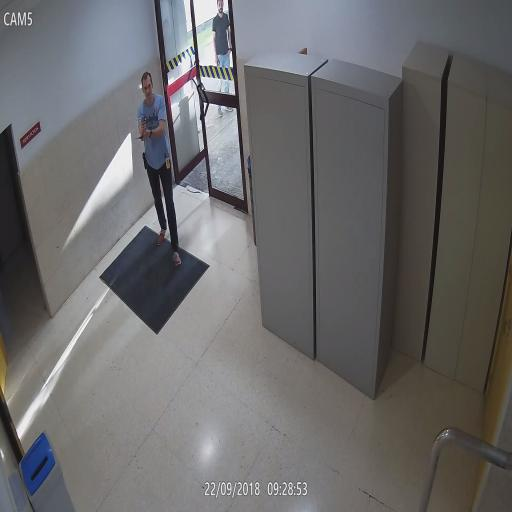Handgun: (140, 113, 146, 137)
